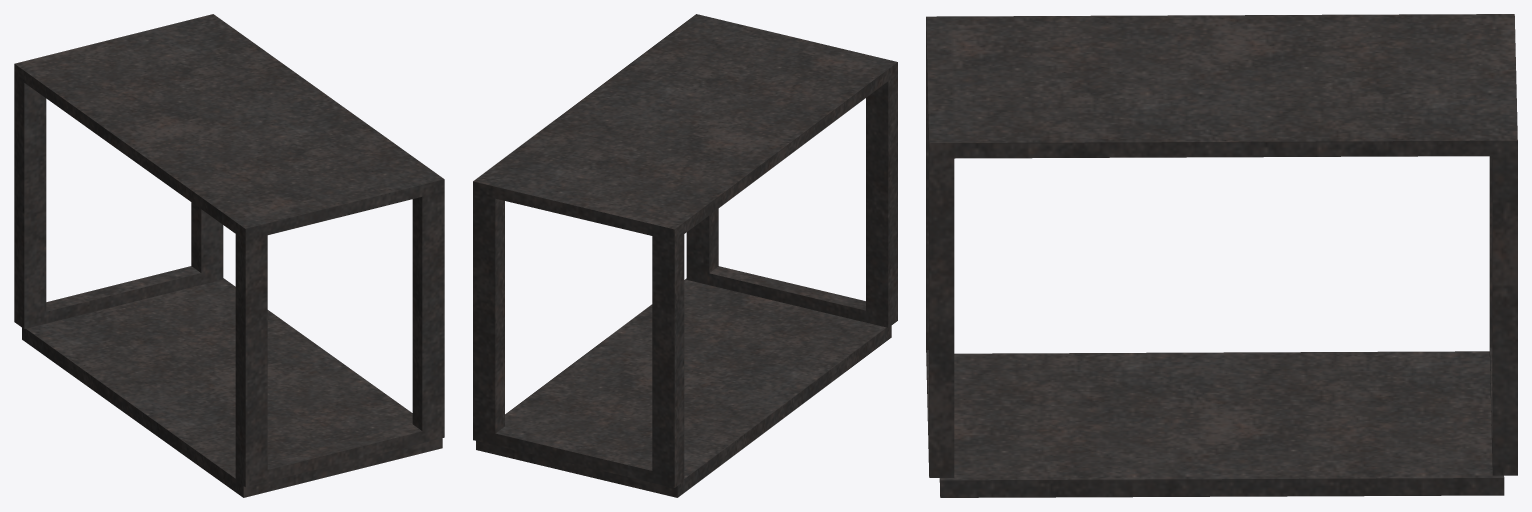
File: cuadrado.glb
The picture shows the model from 3 angles, left to right: view 1: azimuth 30°, elevation 25°; view 2: azimuth 150°, elevation 25°; view 3: azimuth 270°, elevation 25°; orthographic projection. The views are drawn at different scales.
Visible parts, largest first — view 1: Cube.004; view 2: Cube.004; view 3: Cube.004.
Boxes of the visible parts, box(x1,y1,x2,y2) form: Cube.004: box(14, 14, 444, 497); Cube.004: box(473, 14, 897, 497); Cube.004: box(926, 14, 1517, 497).
Bounding box in the file's own units: 1.84 × 2.32 × 3.53.
Materials: 1 (1 with a texture image).
